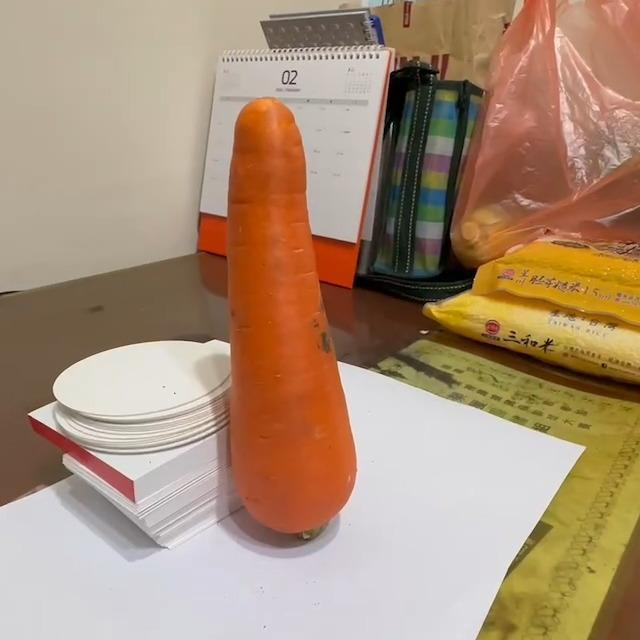carrot: (222, 98, 359, 533)
